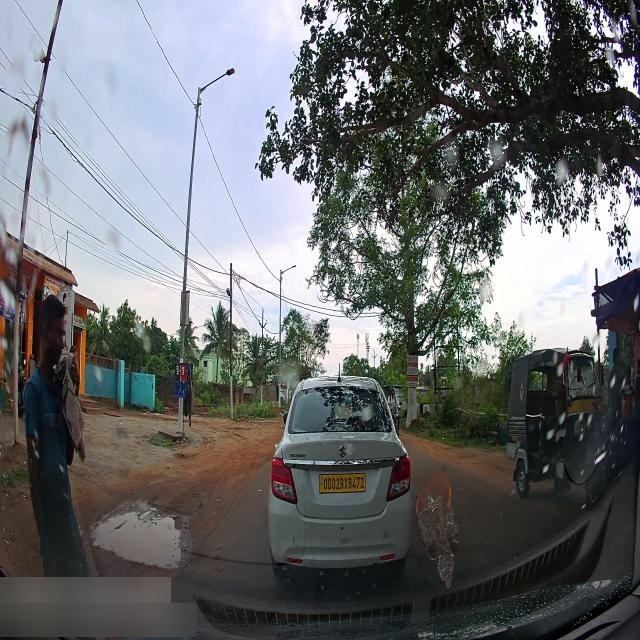pothole: (86, 491, 192, 571)
